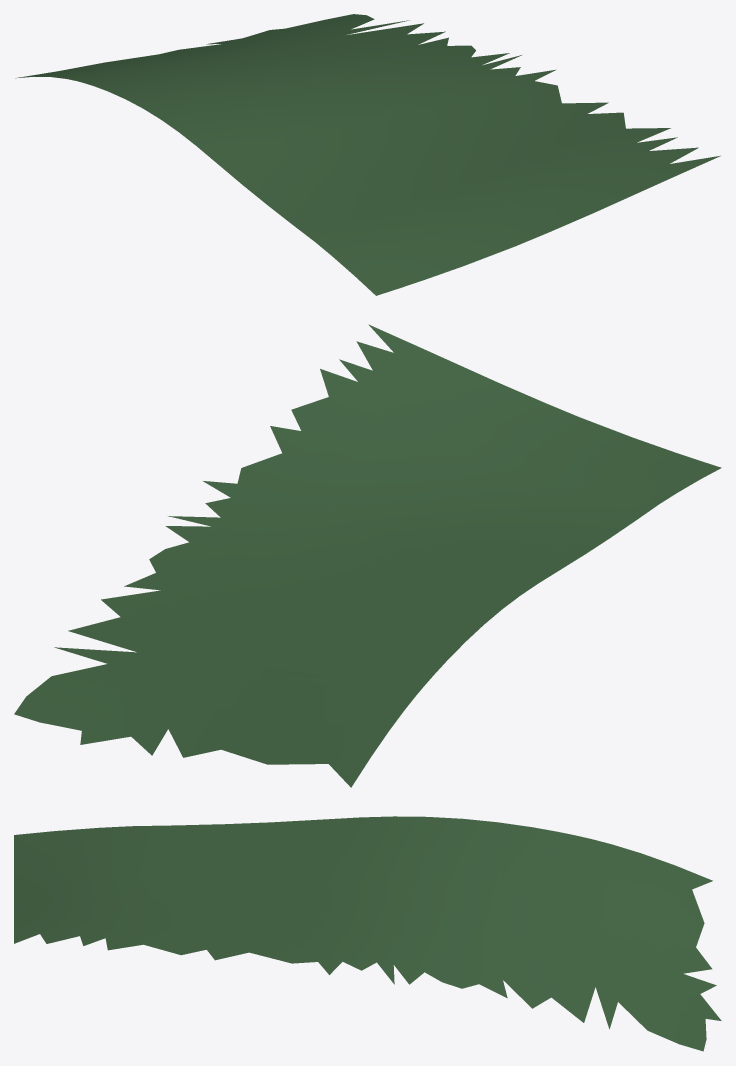
The model's file is payo_land_x4_y10.glb.
3 views of the same model, one above another, from view 1: azimuth 30°, elevation 25°; view 2: azimuth 150°, elevation 25°; view 3: azimuth 270°, elevation 25° (orthographic). The views are drawn at different scales.
Visible parts, largest first — view 1: payo_land_x4_y10; view 2: payo_land_x4_y10; view 3: payo_land_x4_y10.
Part boxes in pixels (x1=…): payo_land_x4_y10: x1=15, y1=14, x2=720, y2=295; payo_land_x4_y10: x1=14, y1=324, x2=721, y2=787; payo_land_x4_y10: x1=14, y1=816, x2=721, y2=1051.
Size of the model in its own units: 136 by 45.64 by 249.
